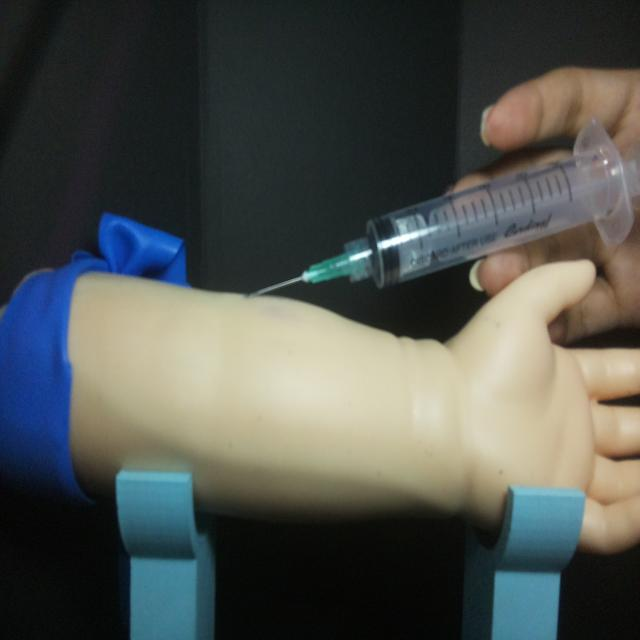20deg: (242, 114, 636, 303)
